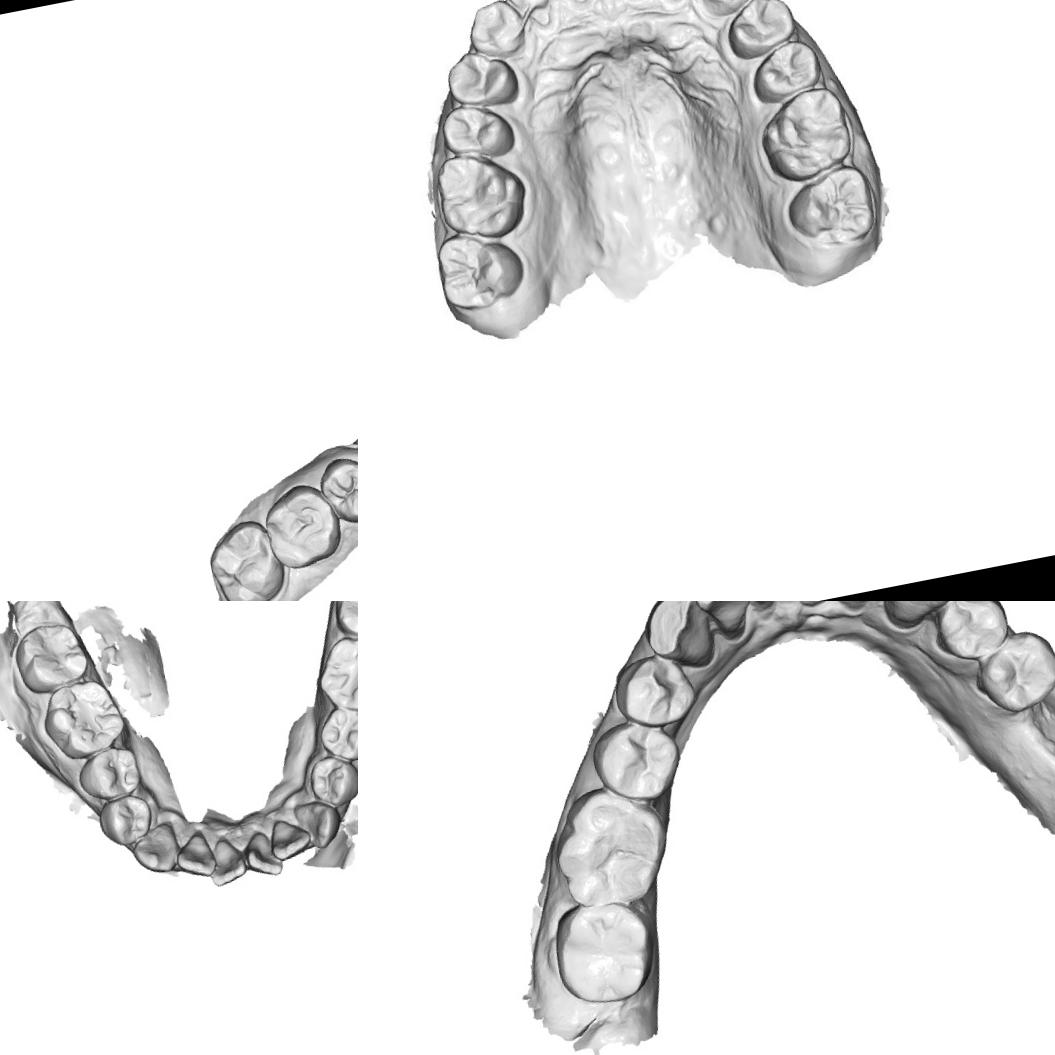canine: (633, 601, 720, 675), (462, 0, 524, 57), (126, 820, 184, 880), (289, 794, 346, 854), (872, 601, 962, 633), (693, 0, 754, 14)
incisor: (690, 601, 763, 644), (170, 826, 218, 884), (238, 826, 284, 882), (264, 812, 314, 863), (204, 832, 247, 889), (499, 0, 556, 15)
molar: (545, 776, 678, 916), (545, 894, 660, 1014), (430, 143, 534, 249), (758, 84, 860, 188), (781, 160, 885, 253), (35, 672, 131, 766), (258, 476, 346, 574), (201, 513, 292, 601), (433, 226, 524, 312), (7, 616, 95, 698), (308, 627, 358, 722), (325, 601, 358, 651)
premolar: (589, 713, 684, 807), (968, 625, 1055, 719), (606, 647, 700, 733), (439, 96, 525, 170), (927, 601, 1016, 667), (744, 35, 825, 103), (446, 48, 526, 115), (72, 742, 144, 804), (723, 0, 797, 58), (92, 790, 156, 850), (302, 749, 358, 812), (314, 450, 358, 529), (313, 700, 358, 767)
